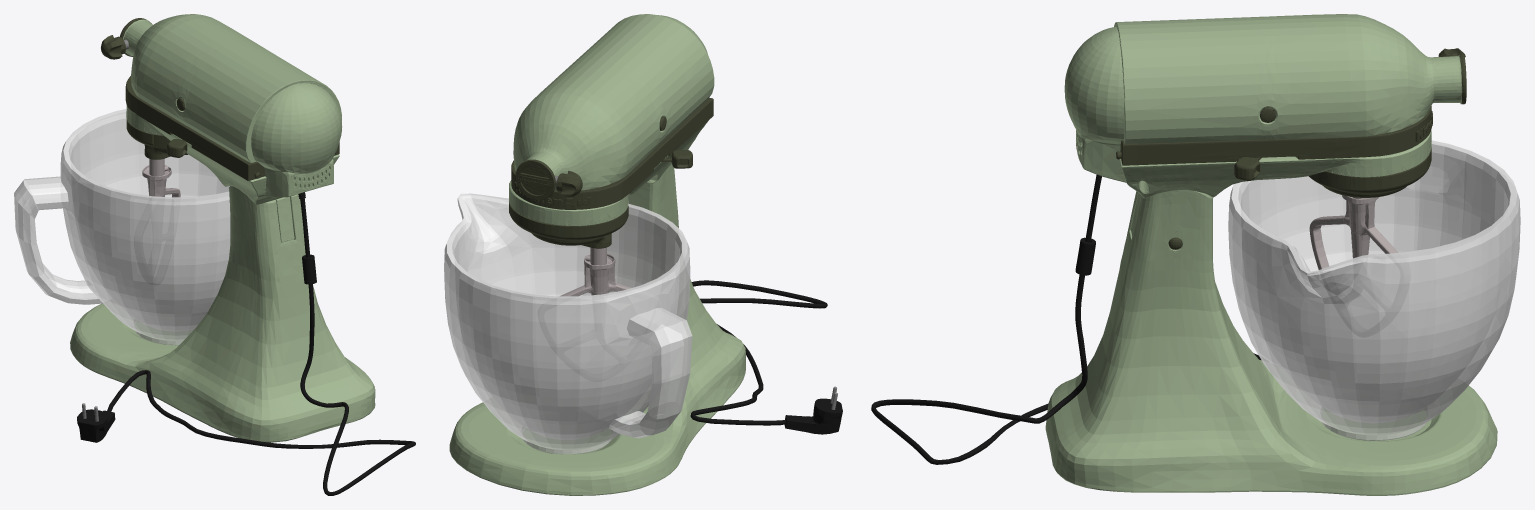
Rendered from mixer_green_glass.glb.
3 renders of one model, left to right at view 1: azimuth 30°, elevation 25°; view 2: azimuth 150°, elevation 25°; view 3: azimuth 270°, elevation 25°, orthographic. The views are drawn at different scales.
Parts seen in each view (by area): view 1: 5438018a-cbbf-445e-9b9a-a6e2e025dc54, 9243af01-0aa6-4080-b758-9842faeaaa41; view 2: 9243af01-0aa6-4080-b758-9842faeaaa41, 5438018a-cbbf-445e-9b9a-a6e2e025dc54; view 3: 5438018a-cbbf-445e-9b9a-a6e2e025dc54, 9243af01-0aa6-4080-b758-9842faeaaa41.
Part boxes in pixels (x1,y1,x2,y2): 5438018a-cbbf-445e-9b9a-a6e2e025dc54: (70, 14, 375, 442); 9243af01-0aa6-4080-b758-9842faeaaa41: (14, 18, 415, 495); 9243af01-0aa6-4080-b758-9842faeaaa41: (444, 97, 842, 454); 5438018a-cbbf-445e-9b9a-a6e2e025dc54: (449, 14, 745, 495); 5438018a-cbbf-445e-9b9a-a6e2e025dc54: (1045, 14, 1497, 495); 9243af01-0aa6-4080-b758-9842faeaaa41: (871, 48, 1520, 464).
Bounding box in the file's own units: 0.1241 × 0.1288 × 0.1816.
